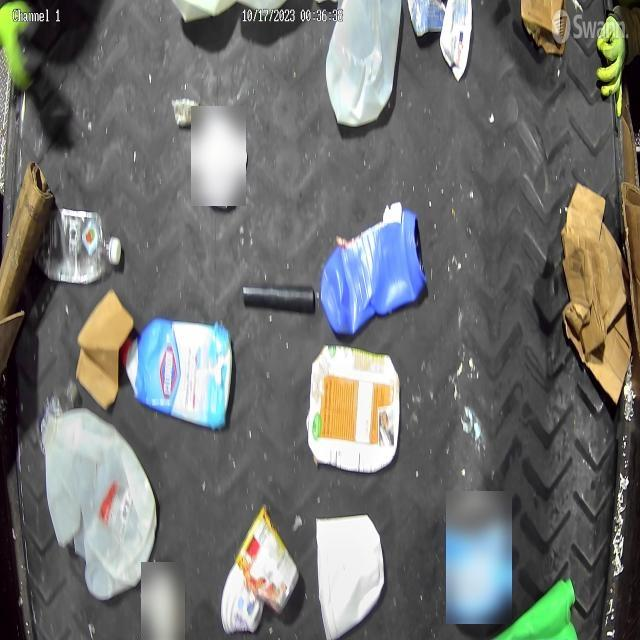milk_jug: (43, 402, 160, 599), (326, 0, 404, 127)
non_white_jug: (320, 210, 428, 336), (122, 320, 236, 428), (308, 345, 402, 473)
plastic_bottle: (37, 207, 124, 289)
